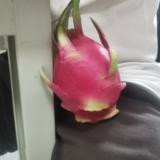pitaya: (40, 1, 126, 122)
